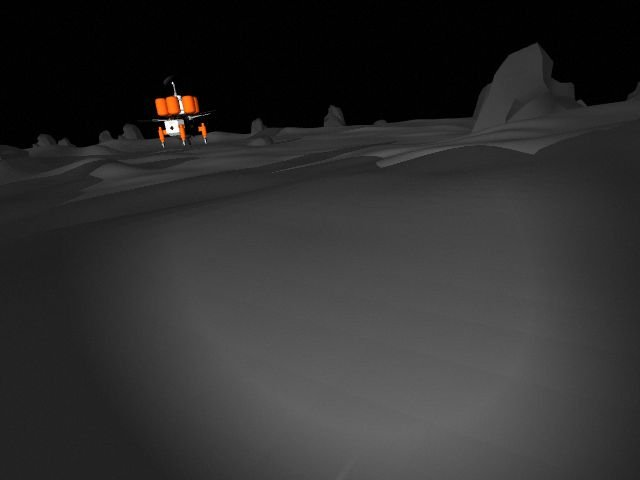homebase: (135, 71, 220, 150)
